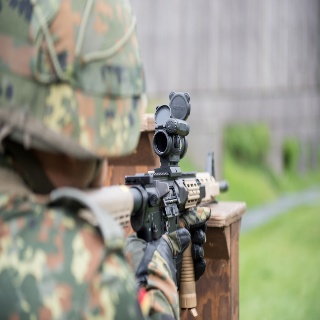rifle: (51, 90, 232, 312)
